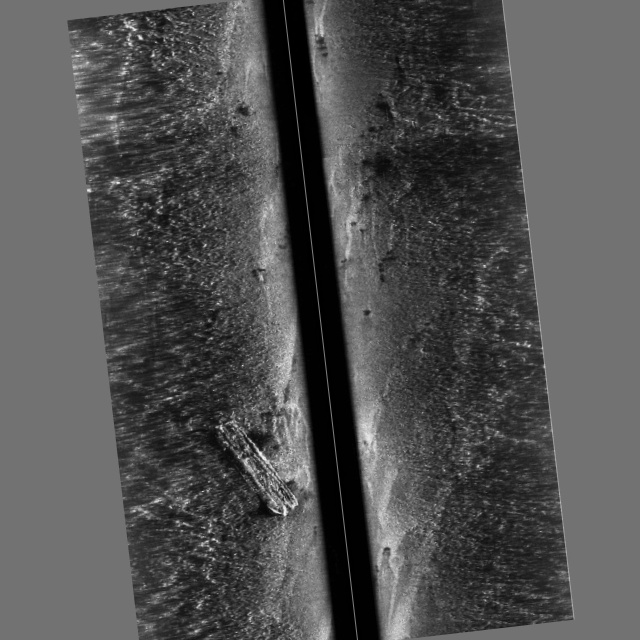Shipwreck: (211, 404, 299, 524)
